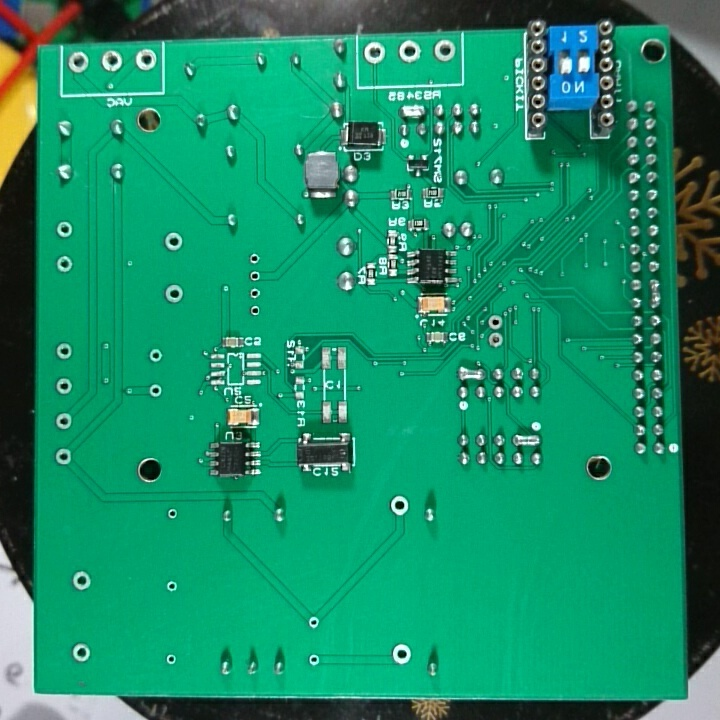F: (386, 493, 416, 520), (390, 639, 417, 666), (161, 229, 187, 256), (432, 37, 457, 63), (361, 40, 387, 65), (67, 640, 92, 666), (396, 38, 421, 63), (99, 49, 124, 74), (132, 48, 158, 72), (161, 283, 187, 307), (66, 49, 89, 75), (70, 569, 93, 595), (53, 375, 76, 398), (53, 410, 76, 432), (53, 445, 73, 470), (53, 340, 76, 361), (53, 254, 76, 275), (54, 218, 75, 241), (486, 331, 507, 351), (247, 300, 267, 320), (161, 650, 181, 669), (147, 381, 165, 400), (164, 578, 182, 597), (147, 346, 164, 366), (165, 505, 182, 525), (247, 282, 264, 302), (487, 312, 505, 330), (306, 613, 323, 632), (247, 249, 264, 266), (247, 266, 264, 283), (307, 651, 321, 667)
P: (455, 363, 488, 384), (510, 432, 544, 449), (647, 277, 664, 311), (399, 102, 429, 119)
